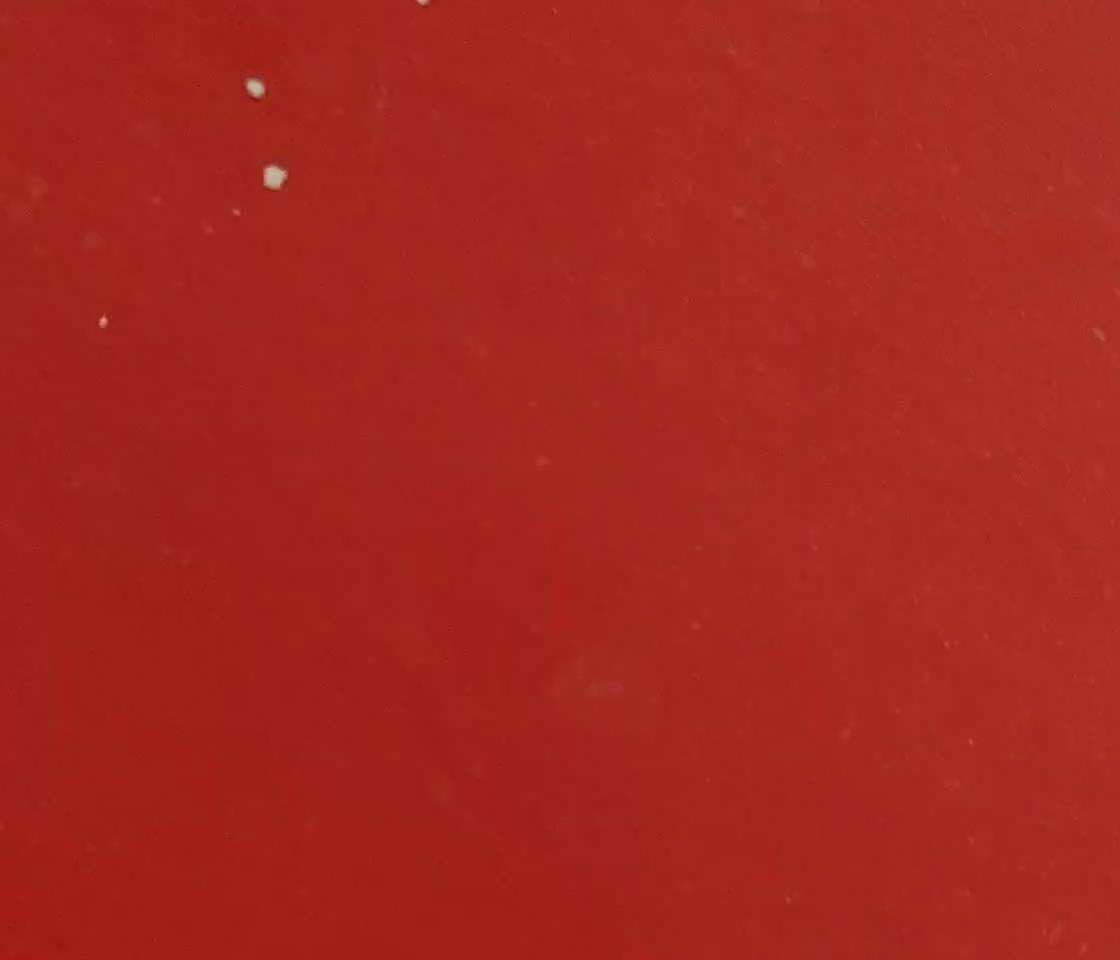paint_peel: (251, 158, 294, 197), (235, 71, 278, 109)
